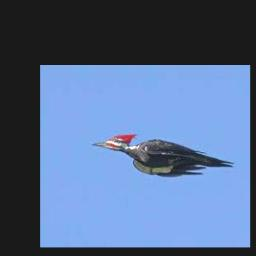Woodpecker: (92, 133, 235, 176)
